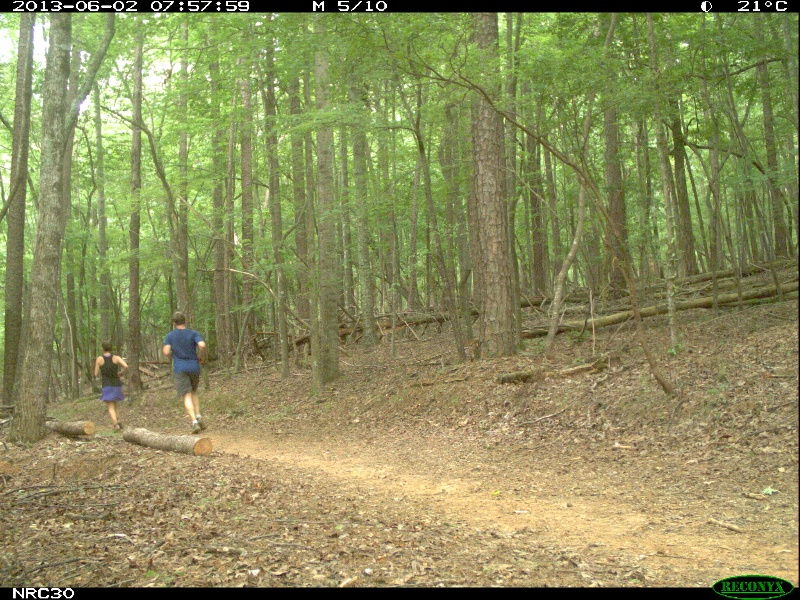human: (162, 310, 211, 435), (92, 339, 132, 436)
human legs: (173, 369, 209, 435), (104, 387, 124, 434)
